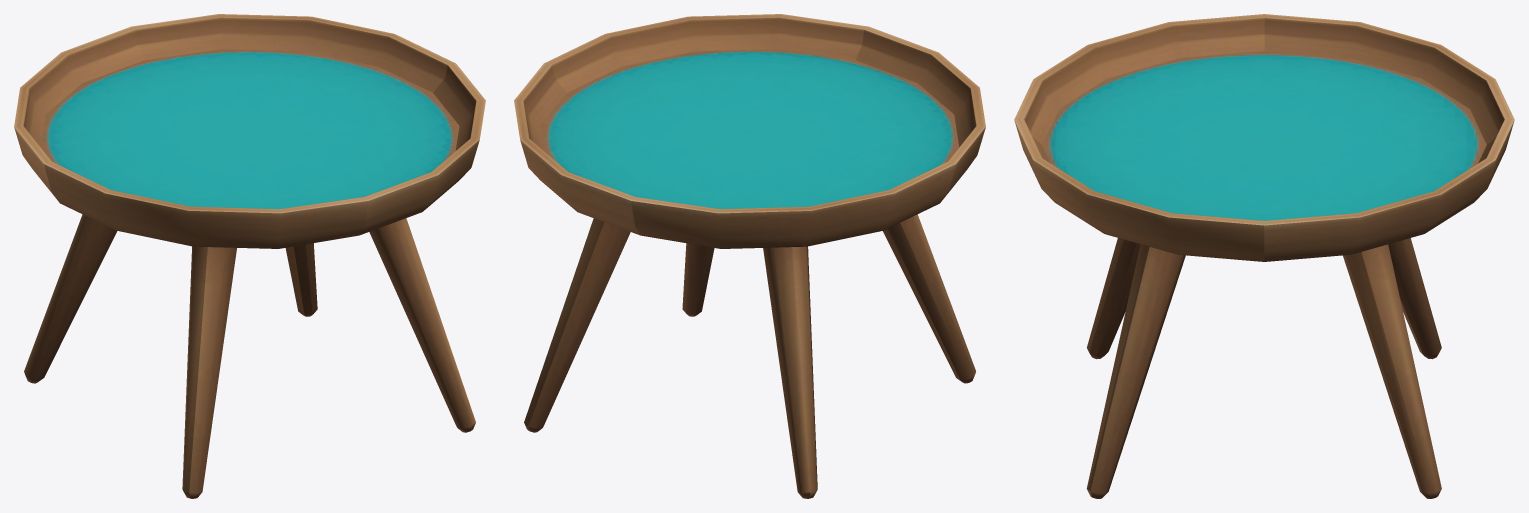
The model's file is SirCumferenceCoffeeTable.fbx.
3 renders of one model, left to right at view 1: azimuth 30°, elevation 25°; view 2: azimuth 150°, elevation 25°; view 3: azimuth 270°, elevation 25°, orthographic. The views are drawn at different scales.
Visible parts, largest first — view 1: TinyLiving_SirCumferenceCoffeeTable; view 2: TinyLiving_SirCumferenceCoffeeTable; view 3: TinyLiving_SirCumferenceCoffeeTable.
Part boxes in pixels (x1=…): TinyLiving_SirCumferenceCoffeeTable: x1=14, y1=14, x2=485, y2=498; TinyLiving_SirCumferenceCoffeeTable: x1=514, y1=14, x2=985, y2=498; TinyLiving_SirCumferenceCoffeeTable: x1=1014, y1=14, x2=1514, y2=498.
Size of the model in its own units: 73.06 by 49.68 by 73.06.
